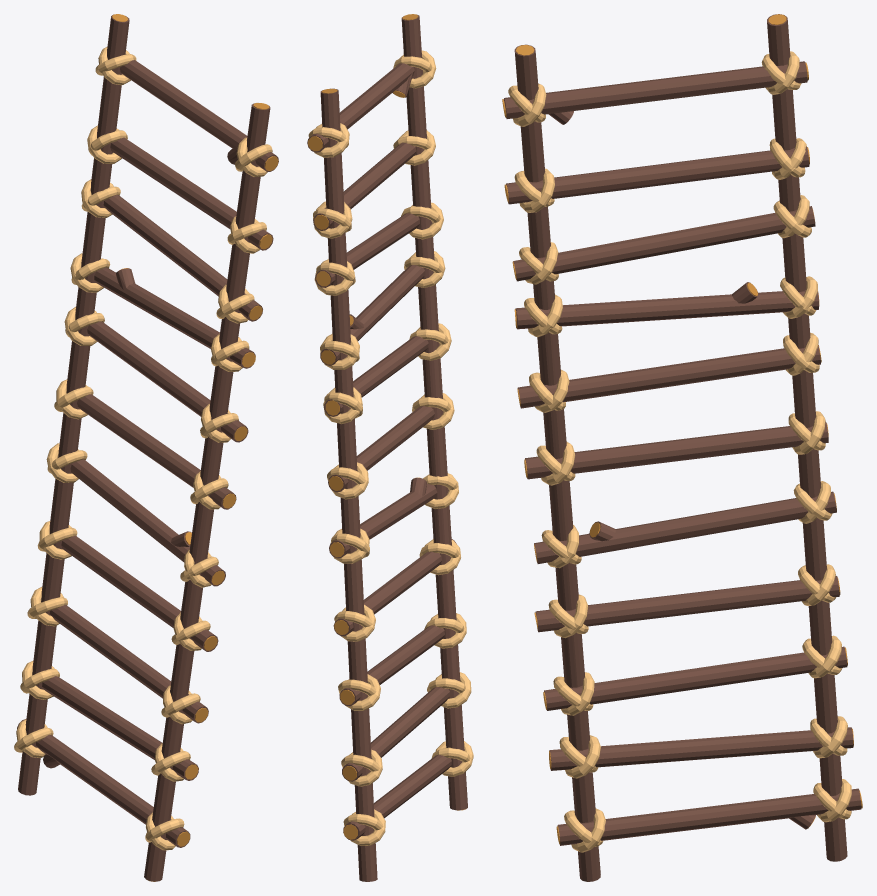
The model's file is Ladder.fbx.
3 renders of one model, left to right at view 1: azimuth 30°, elevation 25°; view 2: azimuth 150°, elevation 25°; view 3: azimuth 270°, elevation 25°, orthographic. The views are drawn at different scales.
Visible parts, largest first — view 1: mesh_735832526, mesh_1147651778, mesh_20529186, mesh_940978571, mesh_1146611456, mesh_1825139340, mesh_1011559146, mesh_1526910916, mesh_2060675427, mesh_222756824, mesh_477564132, mesh_45701191 (+1 smaller); view 2: mesh_735832526, mesh_1147651778, mesh_45701191, mesh_222756824, mesh_1519229772, mesh_1146611456, mesh_1526910916, mesh_2060675427, mesh_1011559146, mesh_1825139340, mesh_940978571, mesh_20529186 (+42 smaller); view 3: mesh_1147651778, mesh_735832526, mesh_1526910916, mesh_940978571, mesh_1146611456, mesh_1825139340, mesh_2060675427, mesh_222756824, mesh_20529186, mesh_477564132, mesh_45701191, mesh_1011559146 (+1 smaller).
Boxes of the visible parts, <box> form: mesh_735832526: <box>144,103,270,881</box>; mesh_1147651778: <box>18,14,129,795</box>; mesh_20529186: <box>103,195,262,321</box>; mesh_940978571: <box>87,321,248,442</box>; mesh_1146611456: <box>77,394,236,509</box>; mesh_1825139340: <box>110,137,273,250</box>; mesh_1011559146: <box>49,605,208,723</box>; mesh_1526910916: <box>120,54,278,171</box>; mesh_2060675427: <box>61,535,218,651</box>; mesh_222756824: <box>17,719,190,847</box>; mesh_477564132: <box>70,459,225,586</box>; mesh_45701191: <box>42,676,198,780</box>; mesh_735832526: <box>401,15,467,810</box>; mesh_1147651778: <box>320,88,377,881</box>; mesh_45701191: <box>342,687,449,781</box>; mesh_222756824: <box>343,755,451,840</box>; mesh_1519229772: <box>320,265,424,365</box>; mesh_1146611456: <box>328,406,434,492</box>; mesh_1526910916: <box>307,63,414,152</box>; mesh_2060675427: <box>333,539,456,636</box>; mesh_1011559146: <box>339,625,444,706</box>; mesh_1825139340: <box>313,142,416,230</box>; mesh_940978571: <box>324,336,428,416</box>; mesh_20529186: <box>315,213,419,287</box>; mesh_1147651778: <box>767,14,847,861</box>; mesh_735832526: <box>514,44,600,881</box>; mesh_1526910916: <box>504,61,807,118</box>; mesh_940978571: <box>517,345,820,408</box>; mesh_1146611456: <box>525,422,828,479</box>; mesh_1825139340: <box>506,146,809,204</box>; mesh_2060675427: <box>535,576,839,632</box>; mesh_222756824: <box>557,788,861,845</box>; mesh_20529186: <box>513,206,815,281</box>; mesh_477564132: <box>534,491,836,563</box>; mesh_45701191: <box>549,727,853,770</box>; mesh_1011559146: <box>544,646,847,710</box>.
Bounding box in the file's own units: 59.01 × 366 × 135.
